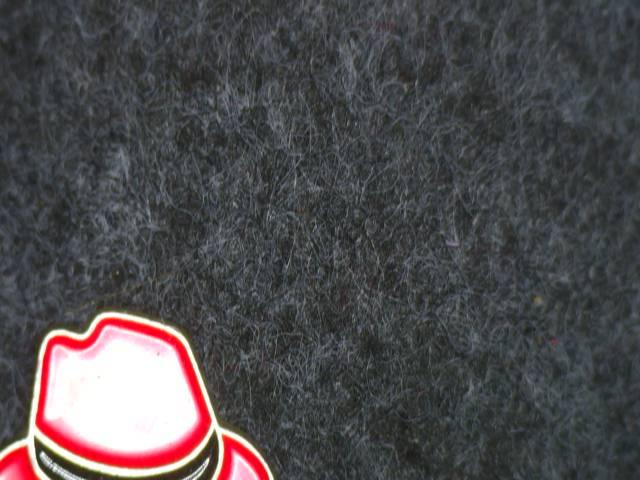Red-Hat: (0, 281, 290, 480)
